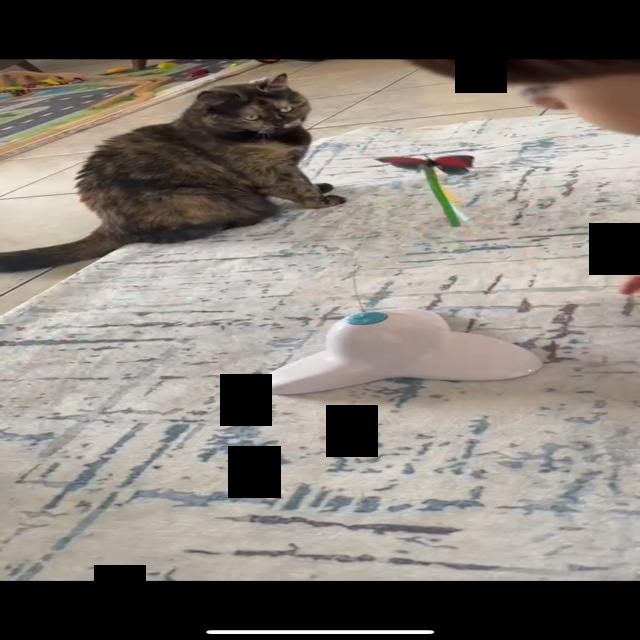authorized: (1, 72, 347, 273)
